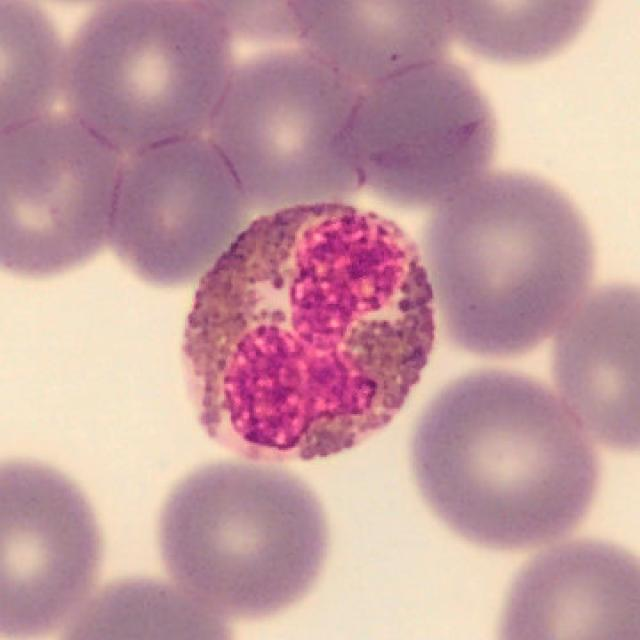Eosinofilo: (180, 203, 437, 464)
